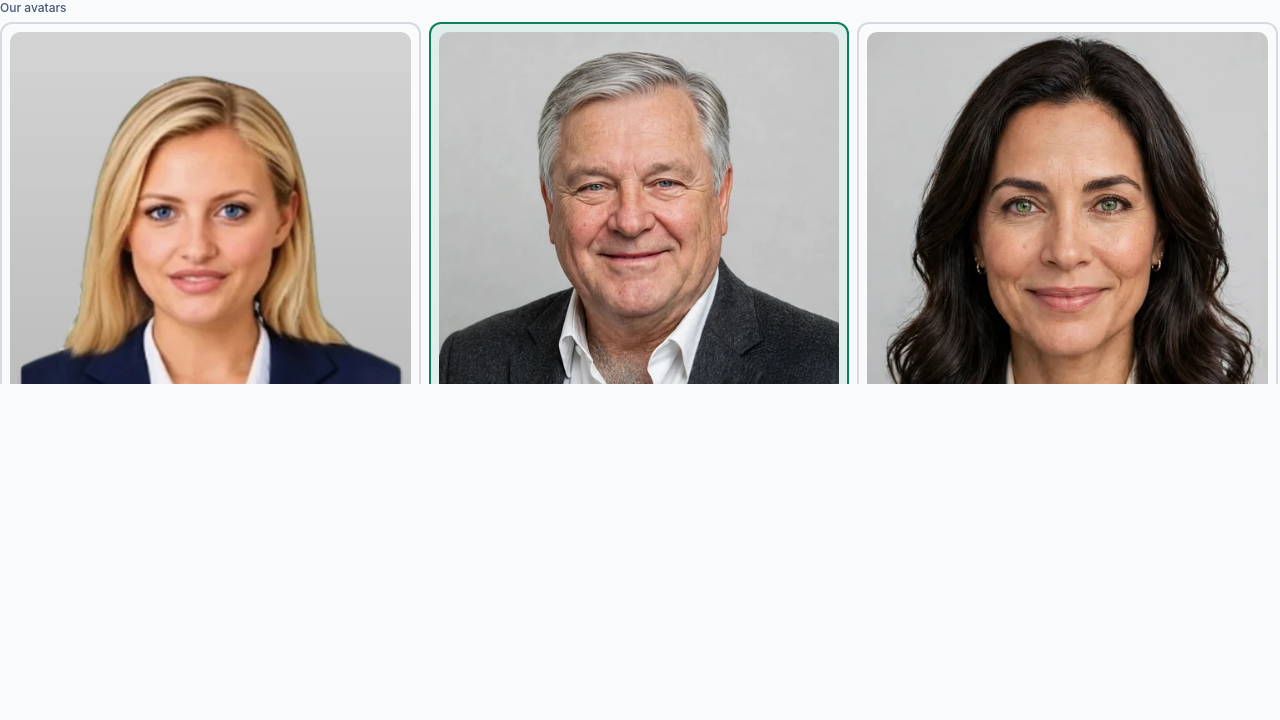
Test: AvatarLibraryGrid — portrait view overlay › viewing the already-selected face shows it as the current avatar, not a pick button
Click the button named "View Frank up close".
click(639, 232)  # box [439, 32, 839, 433]
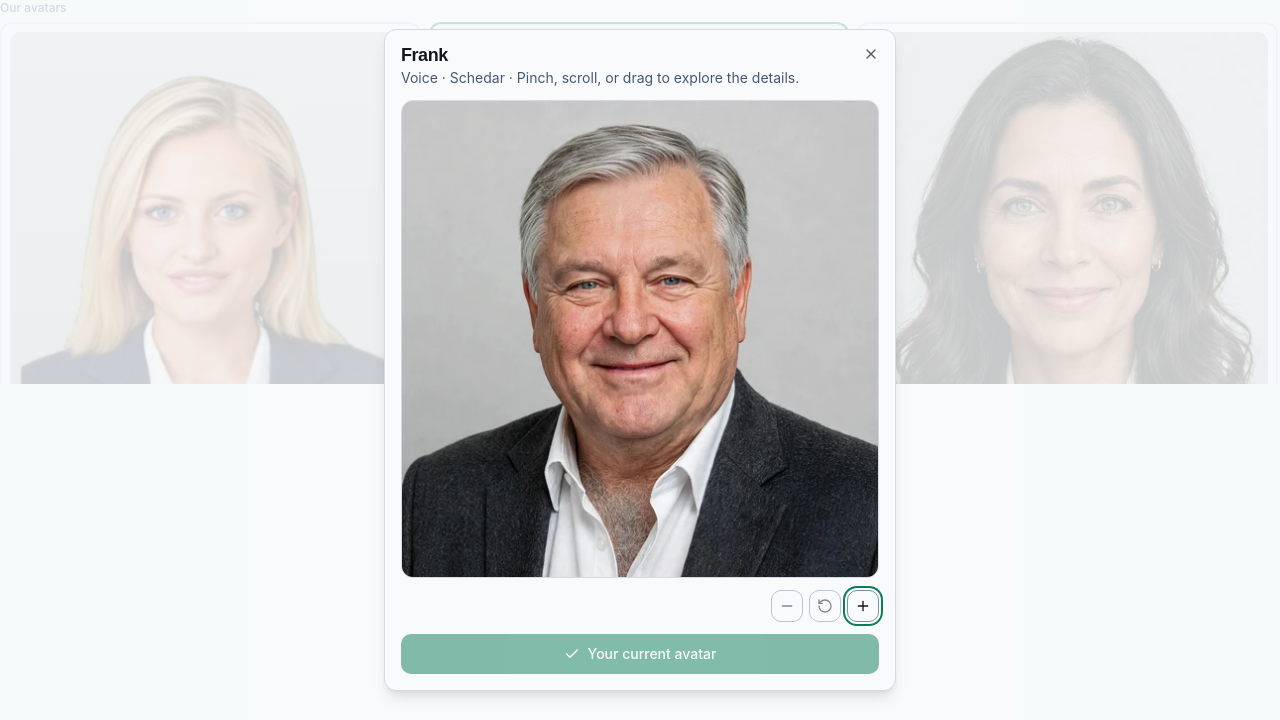
Expected: the button "Your current avatar" is disabled, [401, 634, 879, 674]
